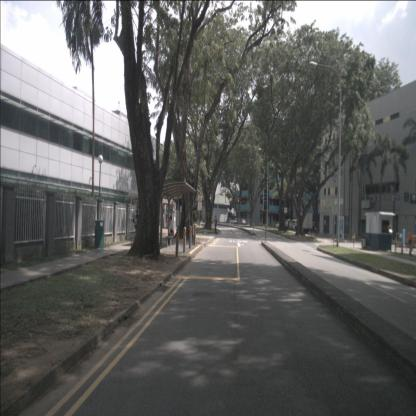cone: (400, 243, 404, 254)
